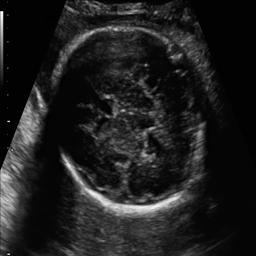normal: (50, 22, 213, 220)
